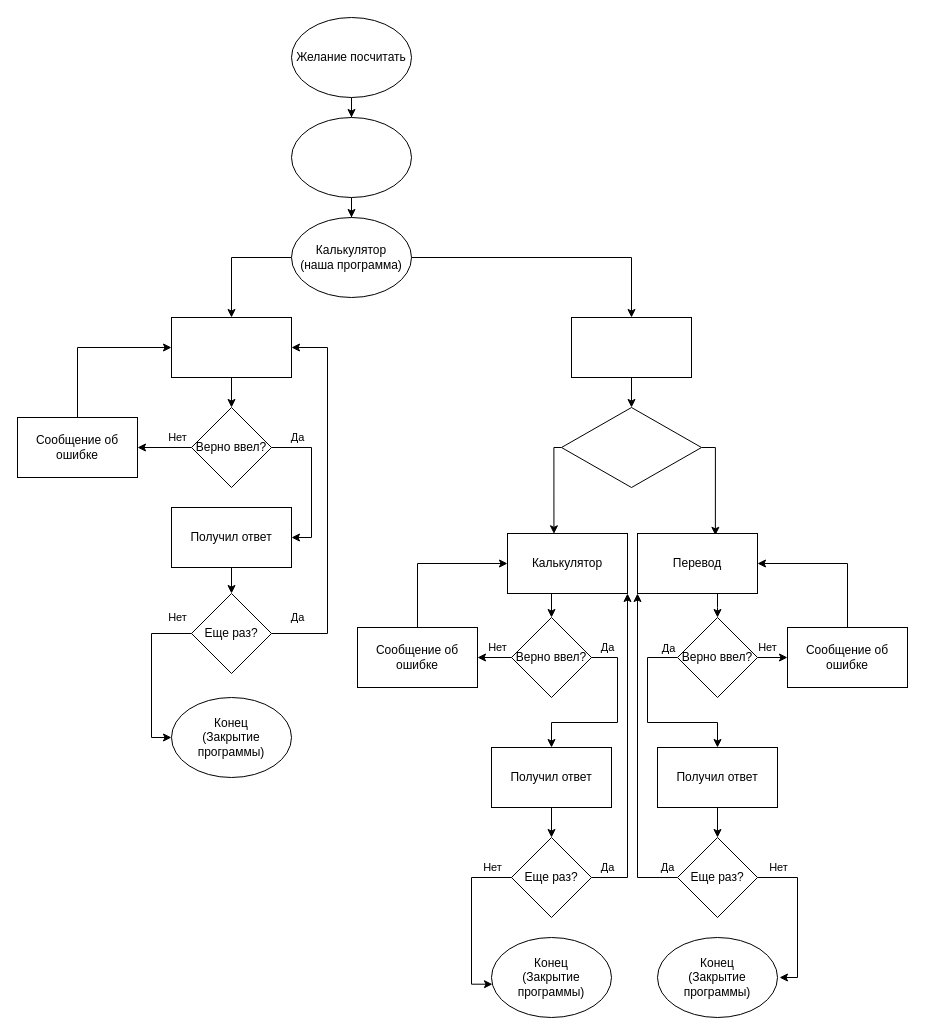
The diagram is 925 pixels wide and 1035 high, and some of its shapes have lost their labels. The shapes that lost their labels are listed below. From the top down, each one's centre as x and y in pixels, then its label:
point (351, 157): Пользователь
point (231, 347): Обычный калькулятор
point (631, 347): Системы счисления
point (631, 447): Калькулятор или перевод?
